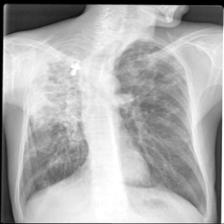tuberculosis: (10, 33, 213, 224)
